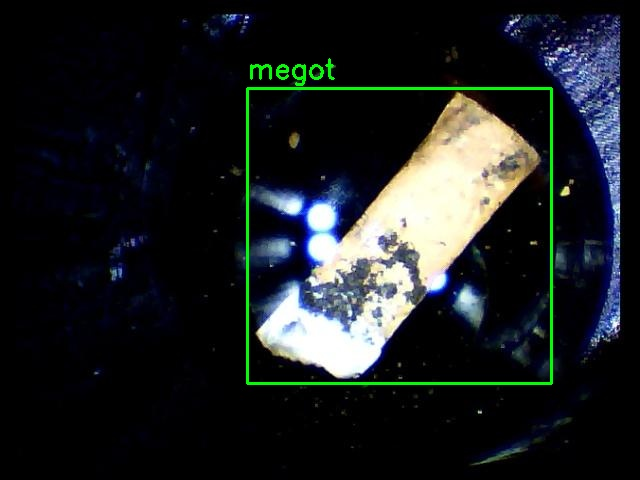megot: (247, 88, 551, 383)
